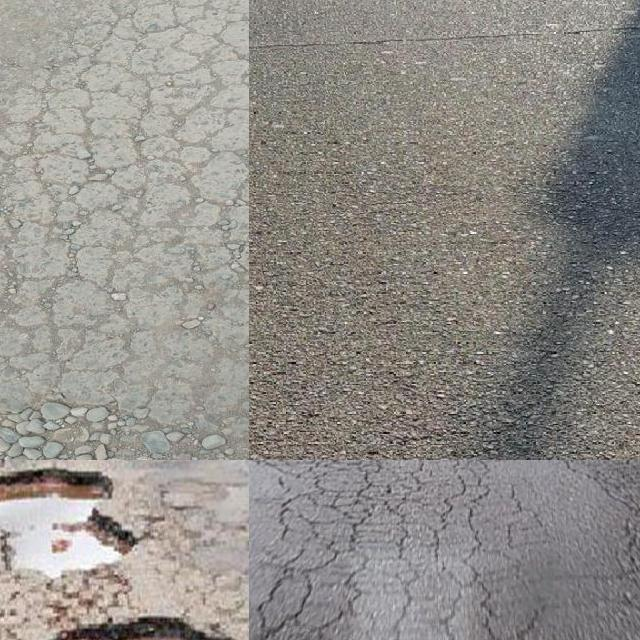Lubang: (0, 467, 129, 578)
Melintang: (249, 17, 640, 64)
Retak Buaya: (0, 0, 249, 439), (249, 460, 542, 640)
